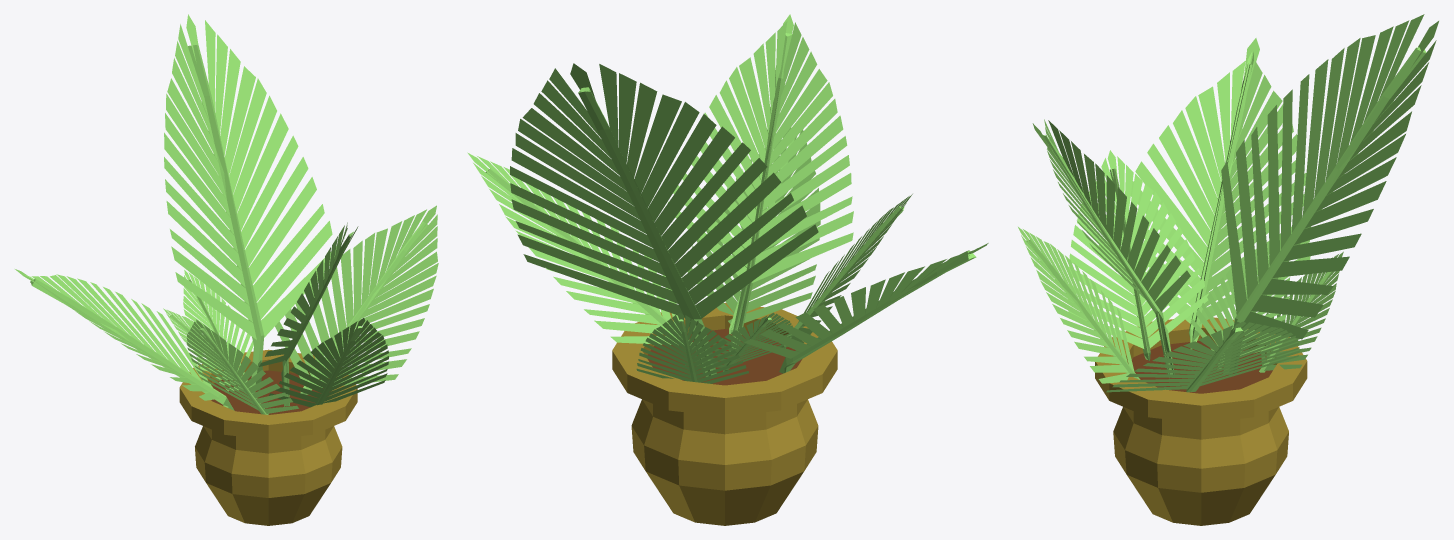
The model's file is HOUSEPLANT_V2.fbx.
The picture shows the model from 3 angles, left to right: view 1: azimuth 30°, elevation 25°; view 2: azimuth 150°, elevation 25°; view 3: azimuth 270°, elevation 25°; orthographic projection. The views are drawn at different scales.
Visible parts, largest first — view 1: Plane.005, Cylinder, Plane, Plane.001, Plane.003, Plane.004, Plane.006, Plane.002, Plane.007; view 2: Plane.005, Cylinder, Plane.006, Plane, Plane.001, Plane.002, Plane.003, Plane.004, Plane.007; view 3: Plane.005, Cylinder, Plane.001, Plane.004, Plane.006, Plane, Plane.003, Plane.002, Plane.007.
Boxes of the visible parts, left/top/right/bottom form: Plane.005: left=164, top=14, right=336, bottom=390; Cylinder: left=179, top=349, right=357, bottom=525; Plane: left=275, top=205, right=438, bottom=394; Plane.001: left=15, top=269, right=234, bottom=410; Plane.003: left=269, top=318, right=388, bottom=407; Plane.004: left=186, top=319, right=298, bottom=414; Plane.006: left=259, top=222, right=358, bottom=406; Plane.002: left=183, top=270, right=253, bottom=376; Plane.007: left=163, top=308, right=254, bottom=392; Plane.005: left=510, top=63, right=818, bottom=376; Cylinder: left=612, top=303, right=837, bottom=525; Plane.006: left=667, top=14, right=853, bottom=351; Plane: left=467, top=152, right=694, bottom=348; Plane.001: left=744, top=243, right=988, bottom=373; Plane.002: left=636, top=312, right=748, bottom=383; Plane.003: left=687, top=127, right=820, bottom=334; Plane.004: left=780, top=194, right=912, bottom=348; Plane.007: left=685, top=312, right=792, bottom=371; Plane.005: left=1221, top=14, right=1438, bottom=374; Cylinder: left=1095, top=317, right=1307, bottom=525; Plane.001: left=1099, top=38, right=1310, bottom=349; Plane.004: left=1068, top=150, right=1208, bottom=360; Plane.006: left=1032, top=119, right=1190, bottom=377; Plane: left=1106, top=321, right=1300, bottom=392; Plane.003: left=1018, top=227, right=1140, bottom=383; Plane.002: left=1259, top=251, right=1343, bottom=372; Plane.007: left=1190, top=234, right=1289, bottom=369.
Bounding box in the file's own units: 736 × 698 × 541.
